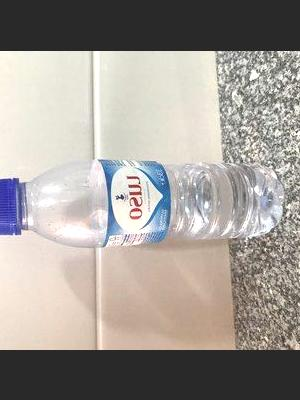bottle: (0, 153, 287, 251)
